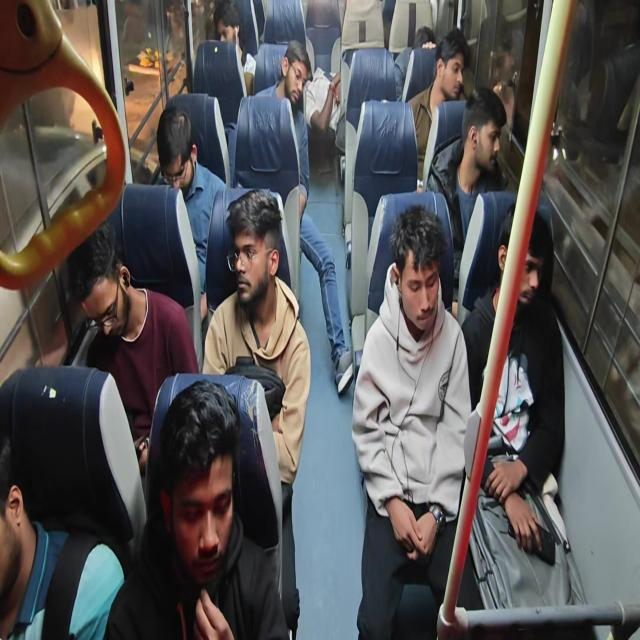person: (140, 376, 241, 564), (0, 395, 73, 626), (57, 230, 125, 372), (480, 193, 543, 332), (219, 186, 283, 306), (413, 207, 472, 332), (157, 102, 210, 208), (272, 38, 329, 132), (307, 53, 343, 129), (462, 102, 502, 163), (435, 39, 467, 115), (214, 11, 248, 63), (406, 21, 431, 71)
